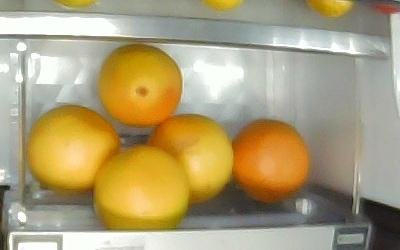grapefruit: (91, 142, 190, 230), (25, 103, 121, 192), (144, 112, 234, 203), (96, 42, 183, 126), (229, 117, 310, 203)
